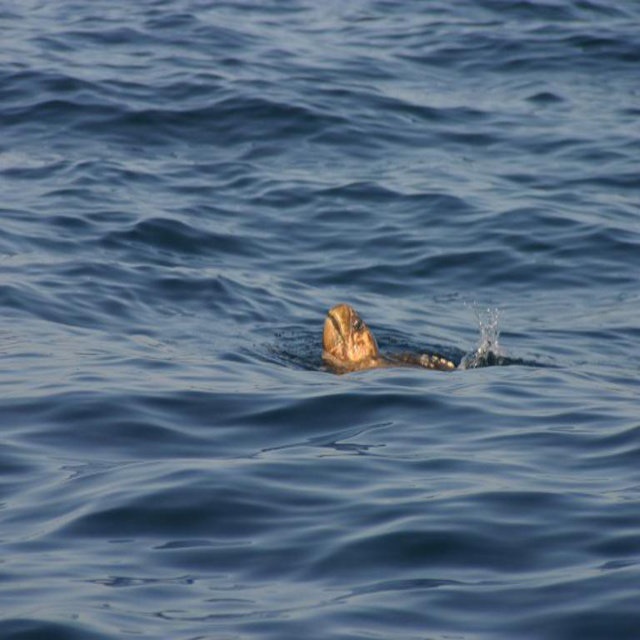Sea turtle: (321, 298, 533, 381)
